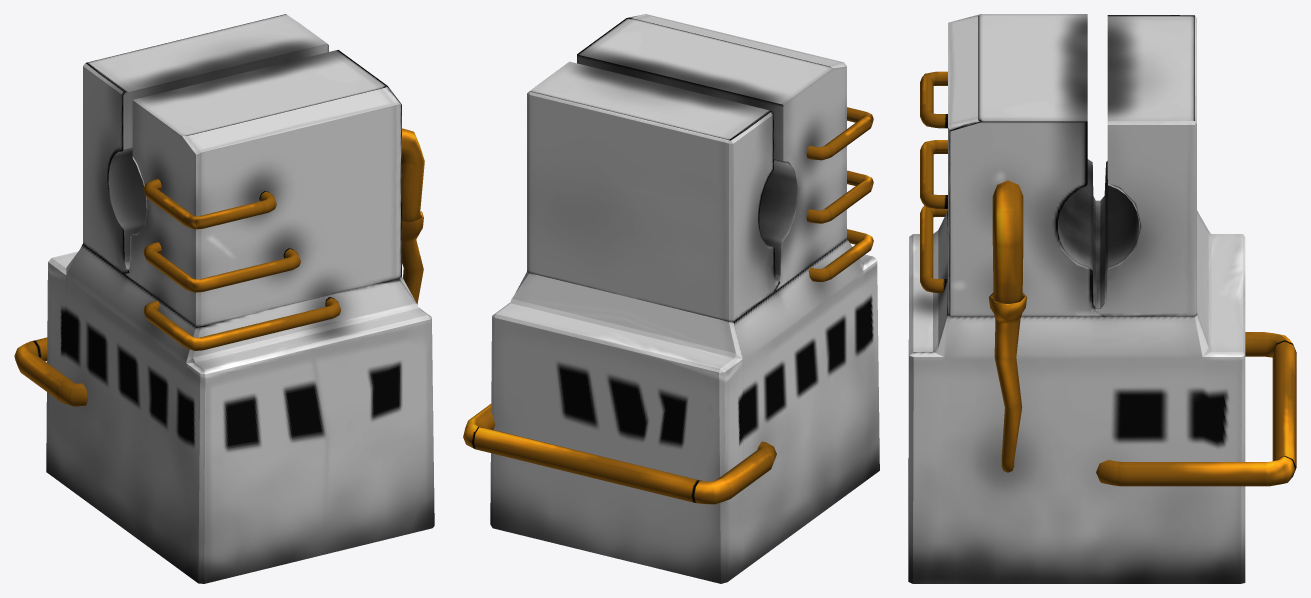
Rendered from UrbanMid.fbx.
3 views of the same model, side by side, from view 1: azimuth 30°, elevation 25°; view 2: azimuth 150°, elevation 25°; view 3: azimuth 270°, elevation 25° (orthographic). The views are drawn at different scales.
Parts seen in each view (by area): view 1: Full_HP1; view 2: Full_HP1; view 3: Full_HP1.
Boxes of the visible parts, left/top/right/bottom form: Full_HP1: left=14, top=14, right=434, bottom=583; Full_HP1: left=463, top=14, right=879, bottom=583; Full_HP1: left=908, top=14, right=1296, bottom=583.
Size of the model in its own units: 175 by 246 by 191.
